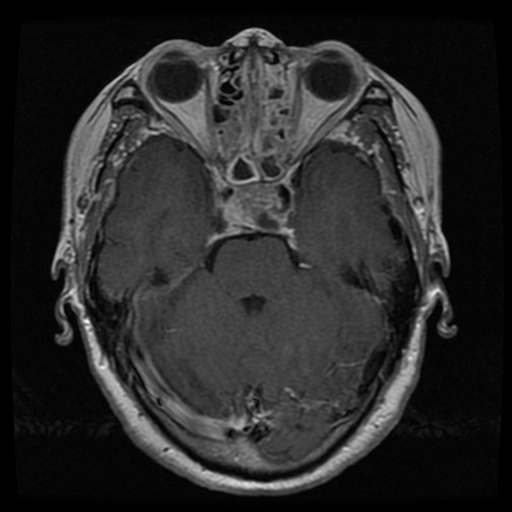pituitary: (227, 181, 290, 233)
